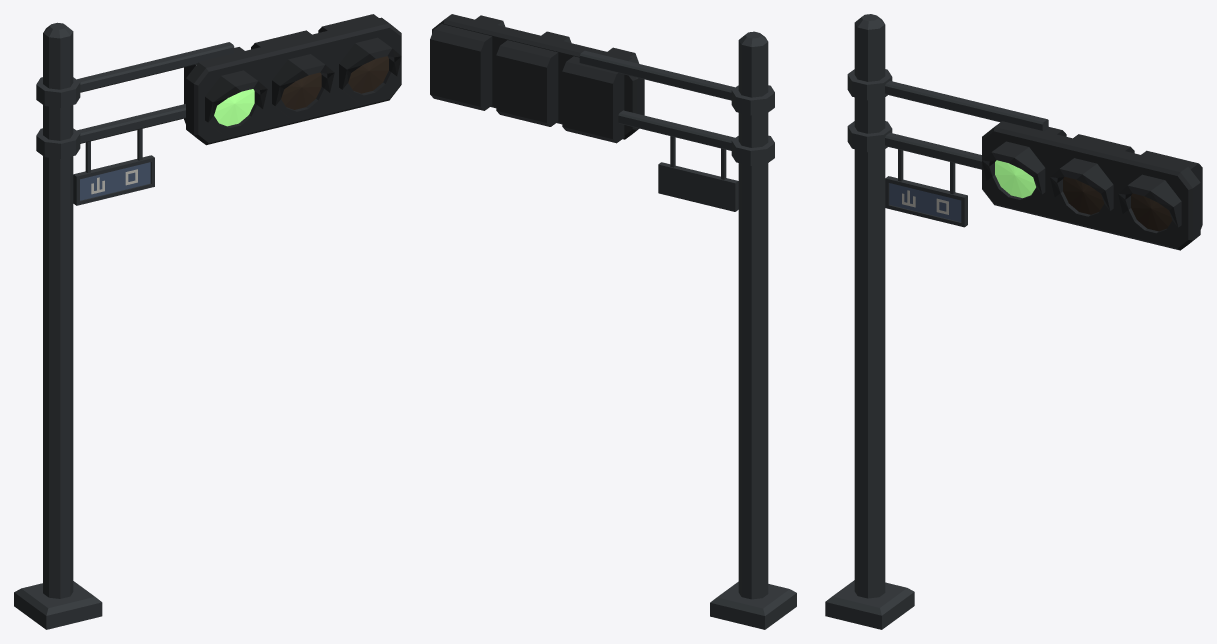
Rendered from traffic-signal.glb.
The picture shows the model from 3 angles, left to right: view 1: azimuth 30°, elevation 25°; view 2: azimuth 150°, elevation 25°; view 3: azimuth 330°, elevation 25°; orthographic projection. The views are drawn at different scales.
Visible parts, largest first — view 1: traffic-signal-body, lit-lamp; view 2: traffic-signal-body; view 3: traffic-signal-body, lit-lamp.
Boxes of the visible parts, x1,y1,x2,y2 form: traffic-signal-body: (14, 14, 401, 629); lit-lamp: (214, 89, 254, 126); traffic-signal-body: (430, 14, 796, 629); traffic-signal-body: (825, 14, 1202, 629); lit-lamp: (995, 160, 1035, 198).
Bounding box in the file's own units: 3.21 × 5 × 0.7035.
